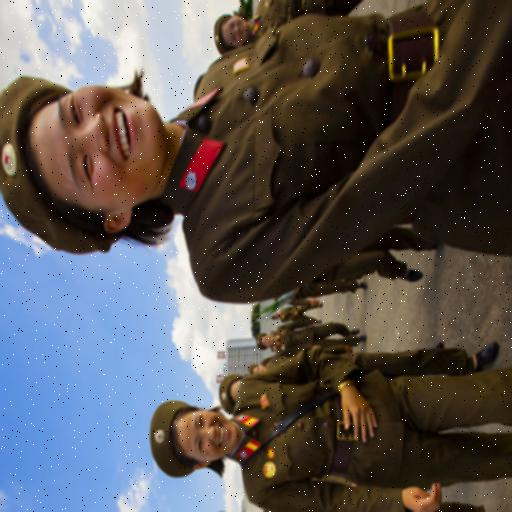north army: (4, 2, 512, 299), (129, 332, 511, 512)
